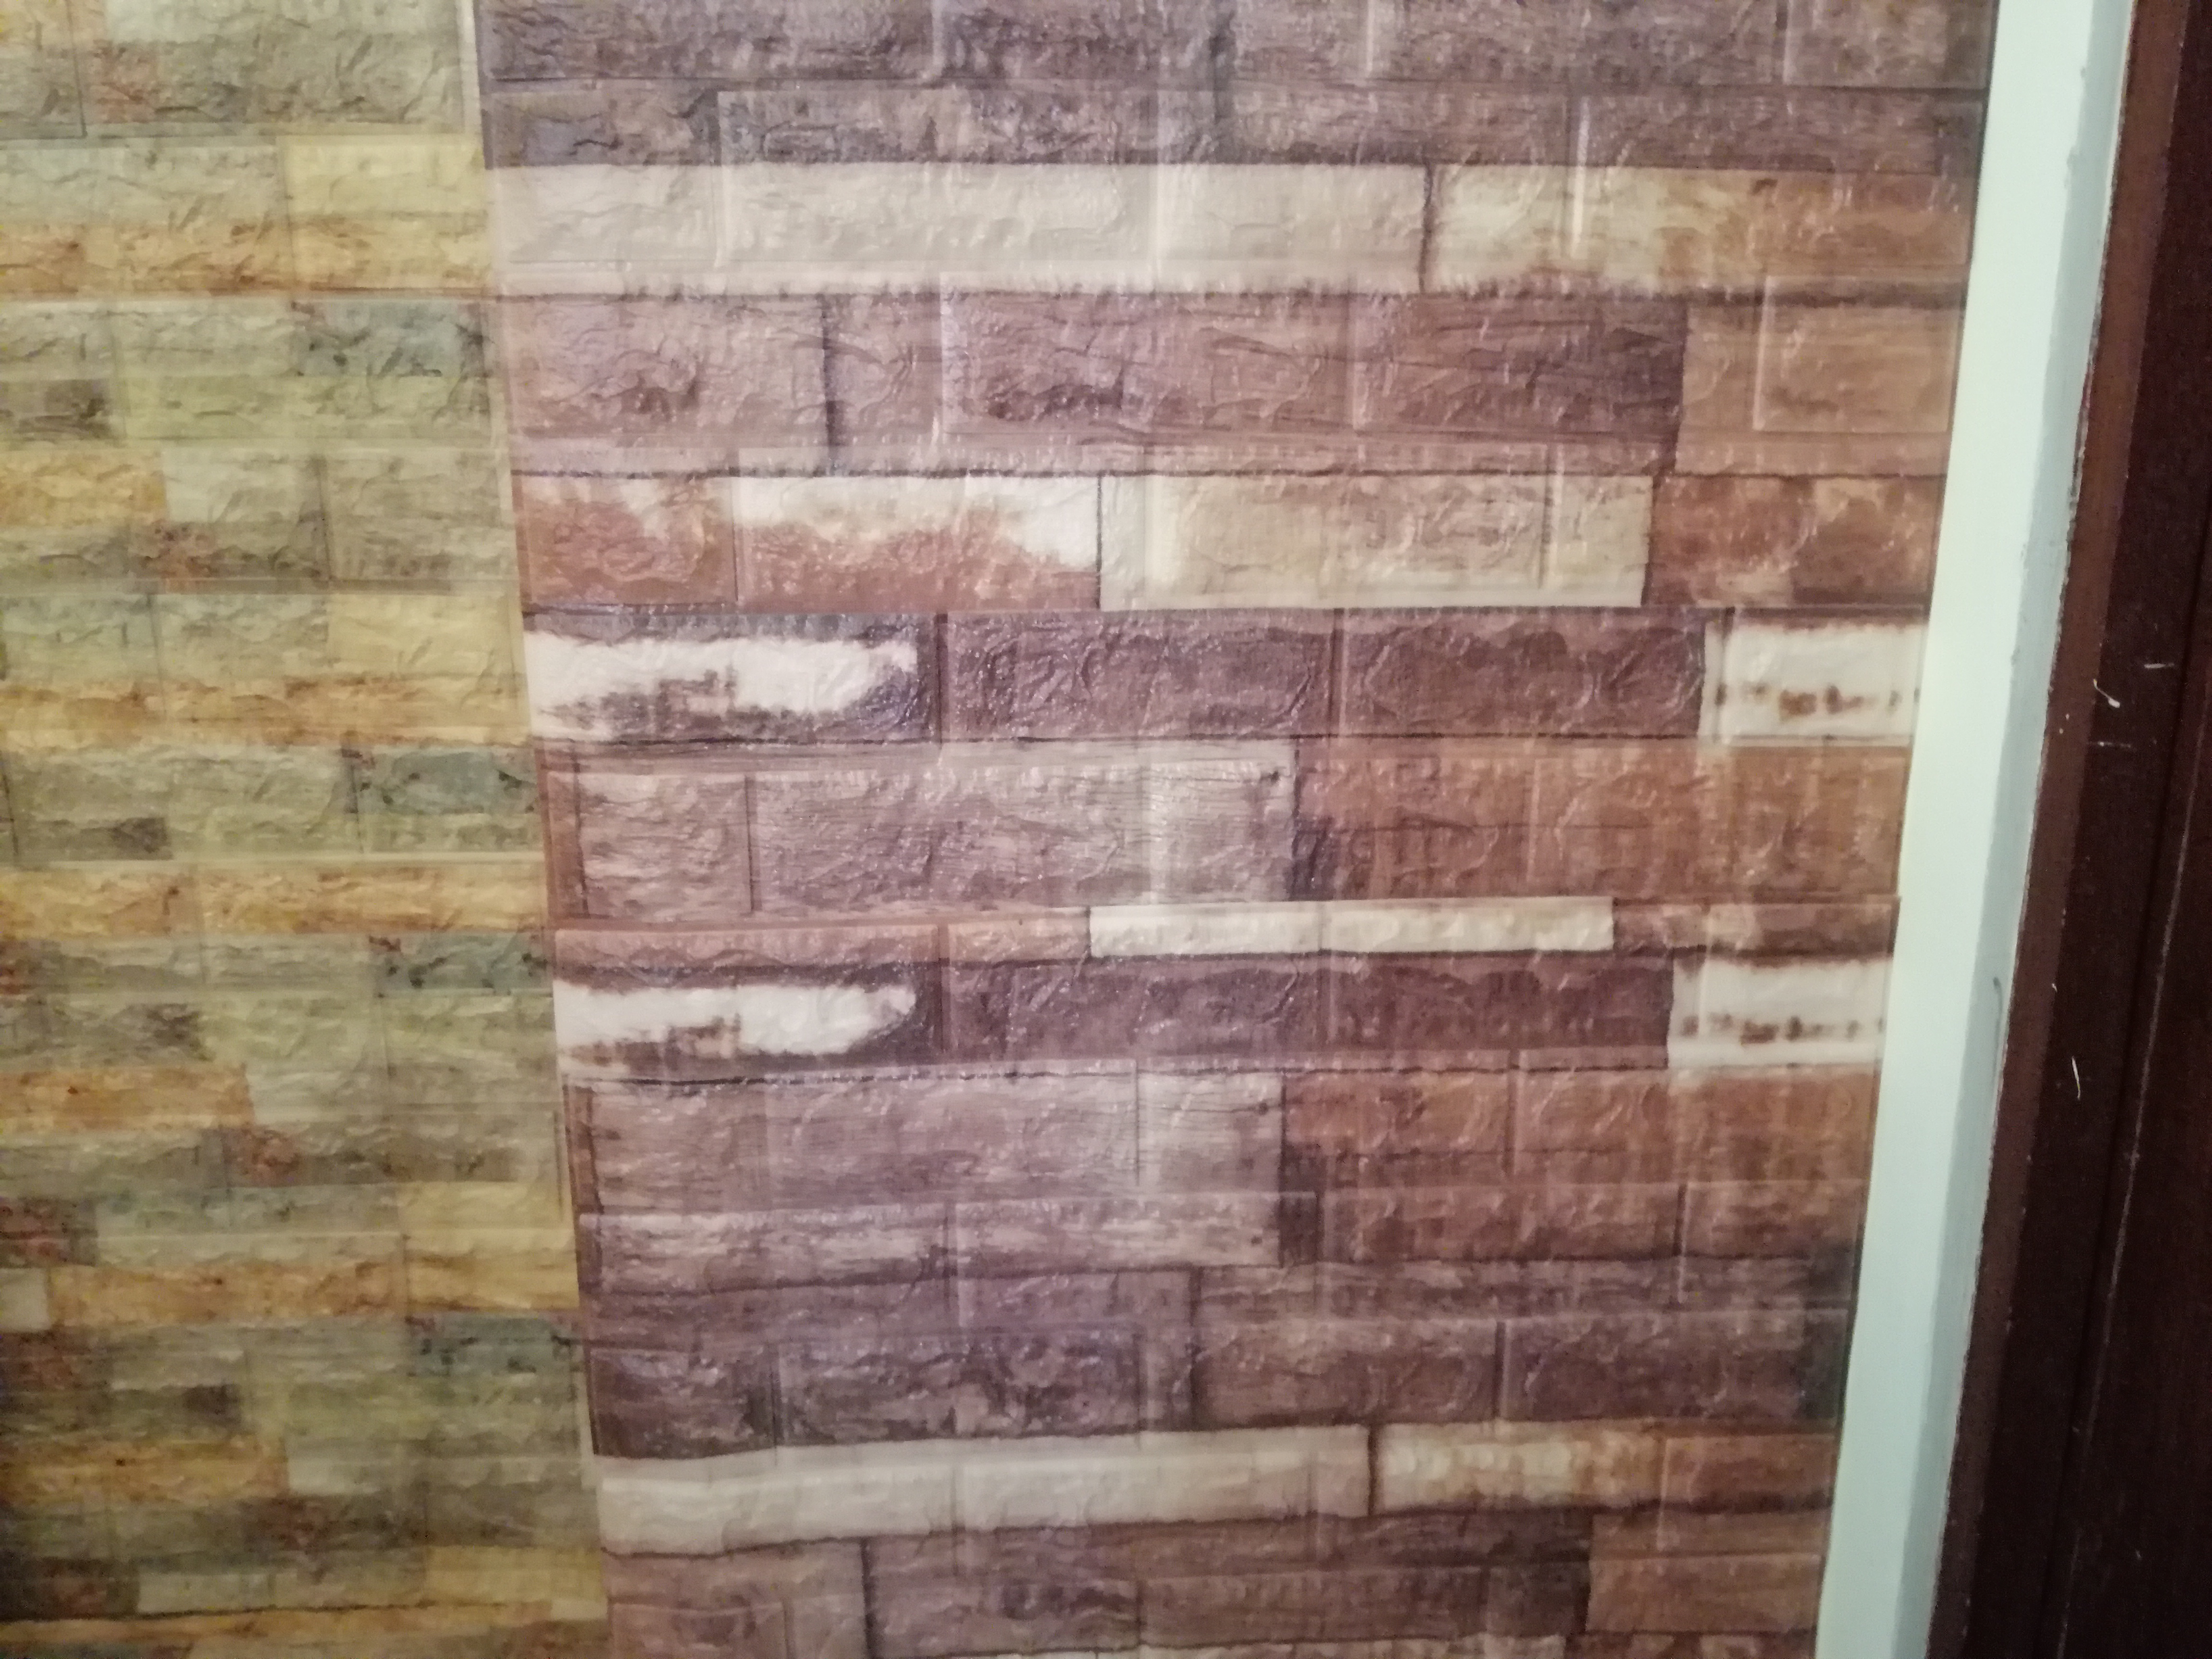wall: (479, 12, 1822, 1657), (2, 17, 599, 1659)
